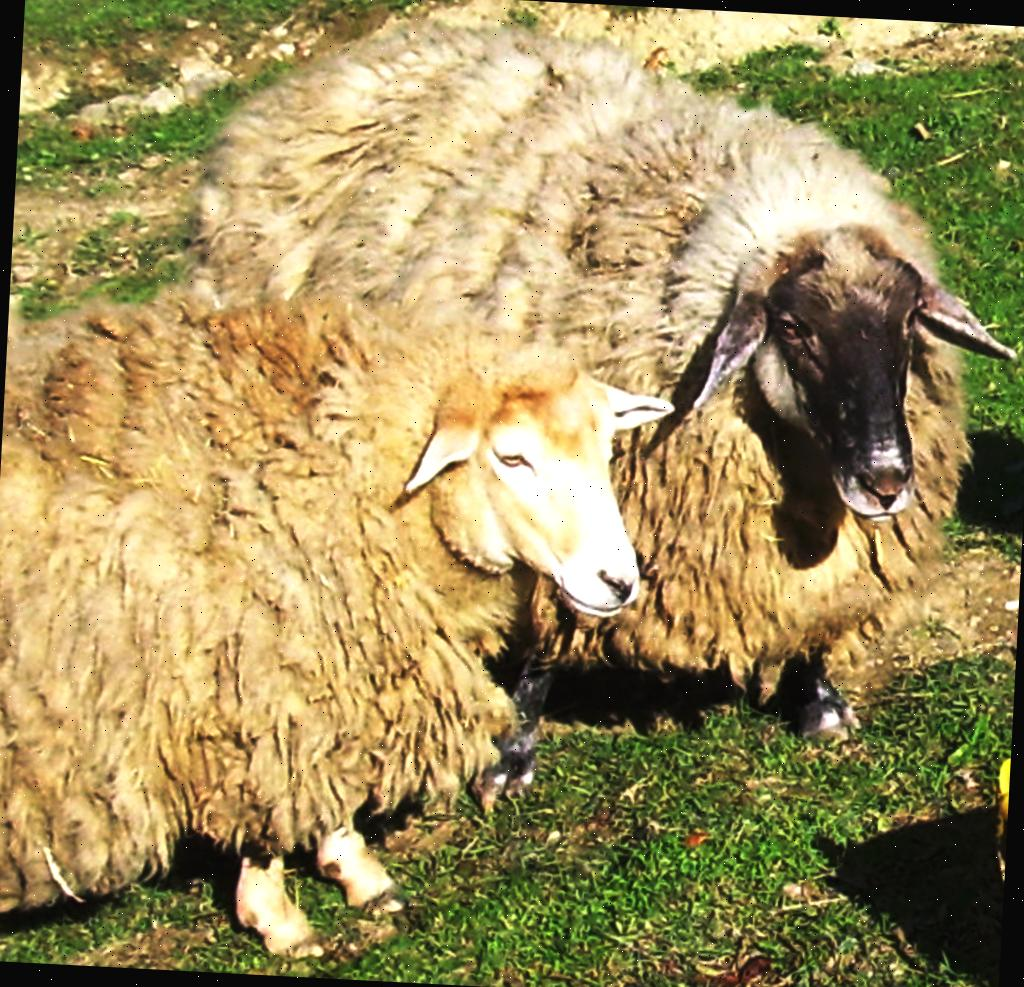Sheep: (139, 0, 1024, 751), (0, 269, 659, 970)
